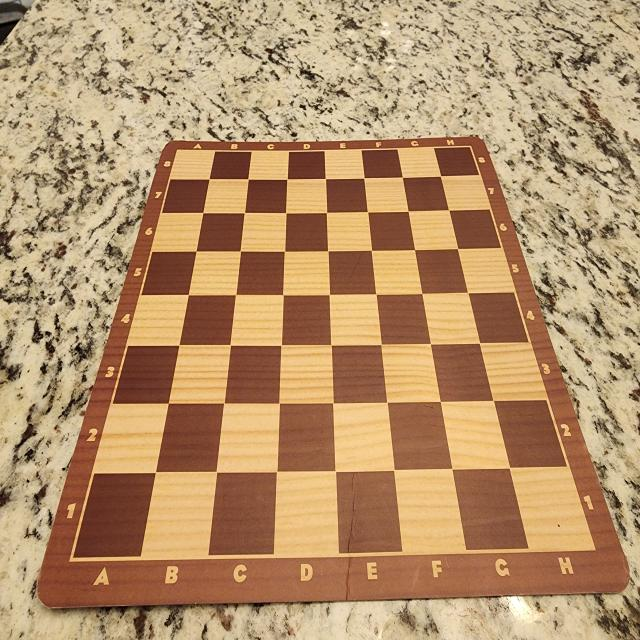Bottom-Left: (69, 473, 156, 562)
Bottom-Right: (510, 468, 596, 550)
Top-Left: (175, 150, 210, 179)
Top-Right: (441, 147, 472, 175)
